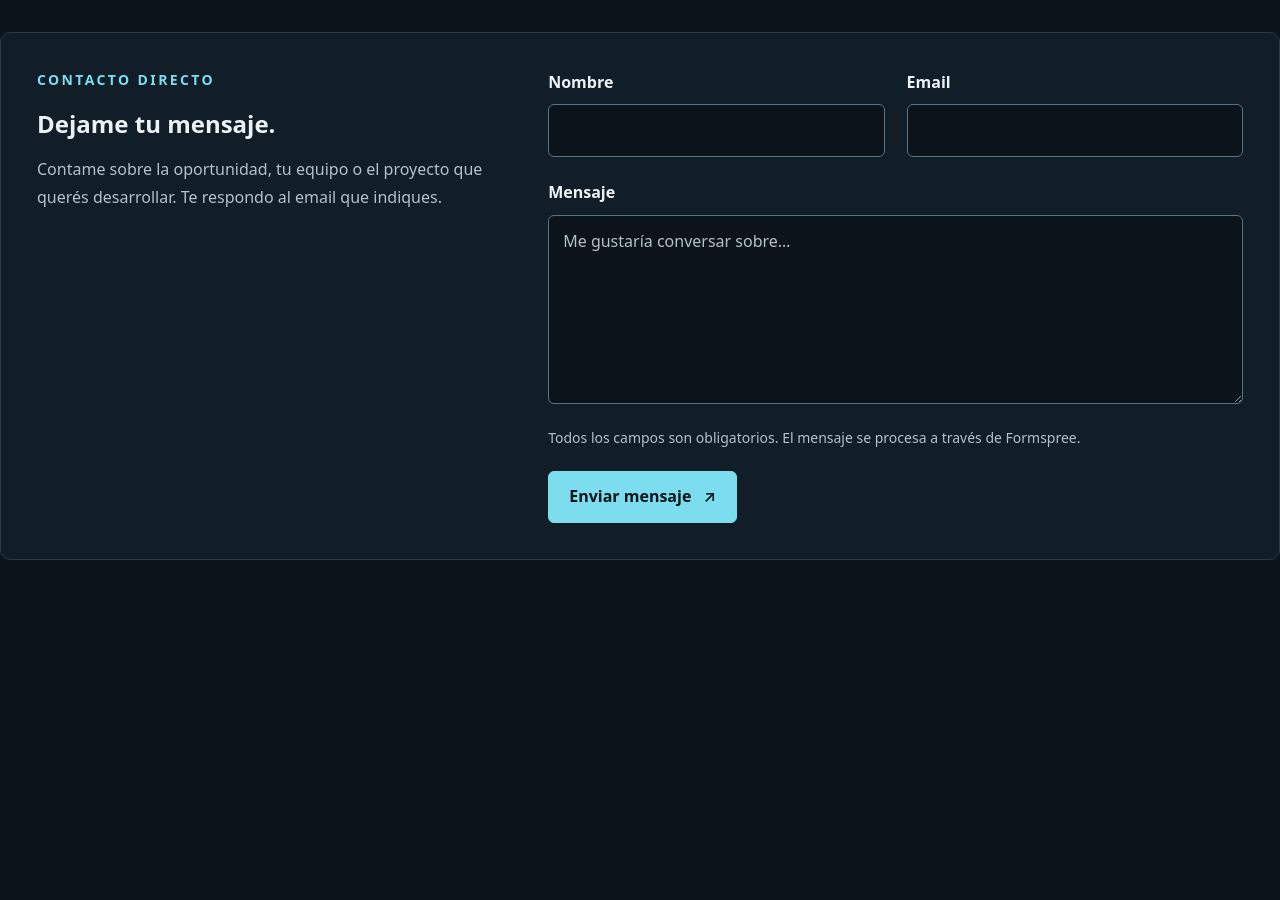
ContactFormComponent › intercepts submission, waits for confirmation and prevents duplicate requests
Type "Visitante" into the field labelled "Nombre". click: (716, 131)
box: [548,104,885,157]
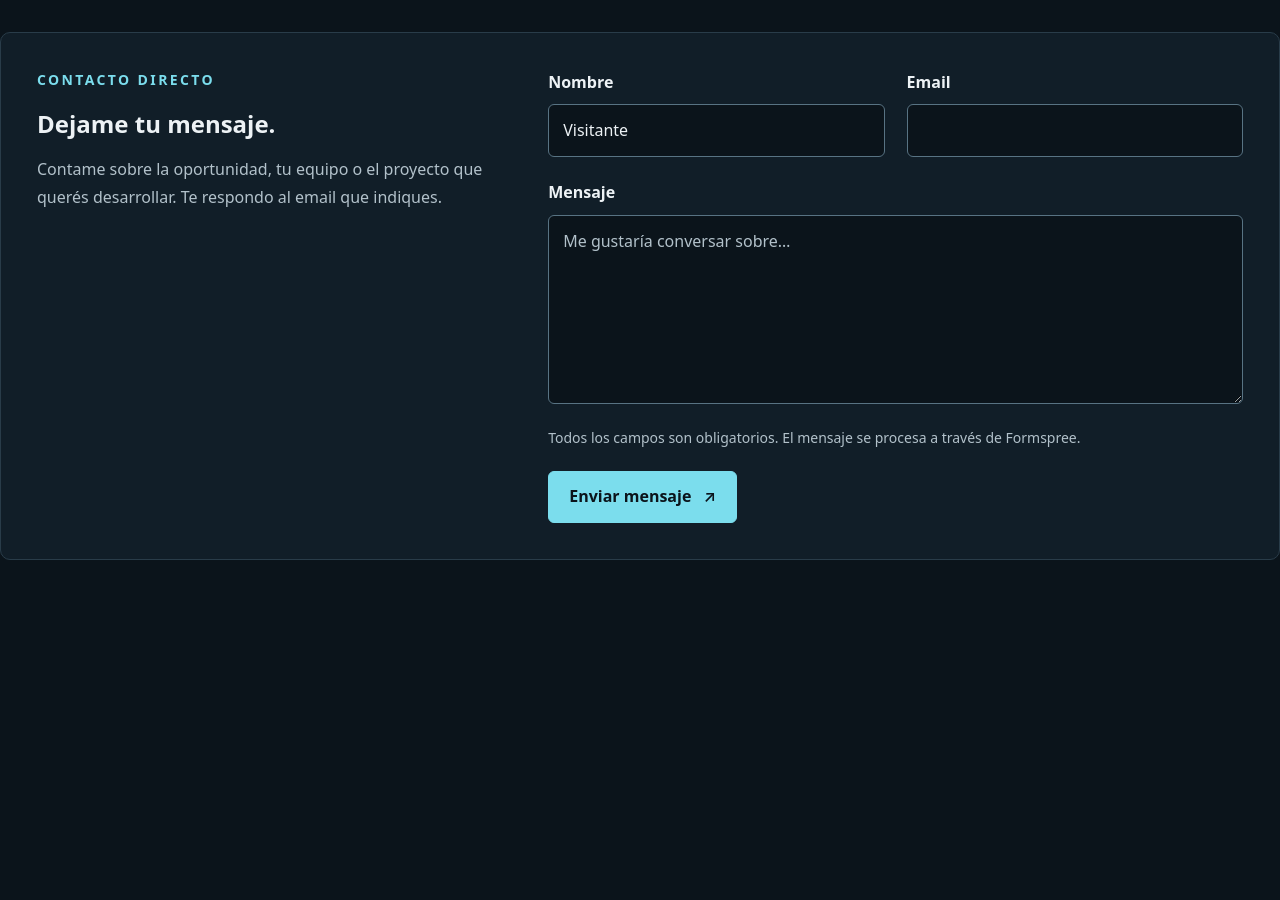
Type "visitante@example.com" into the field labelled "Email". click: (1075, 131)
box: [907,104,1243,157]
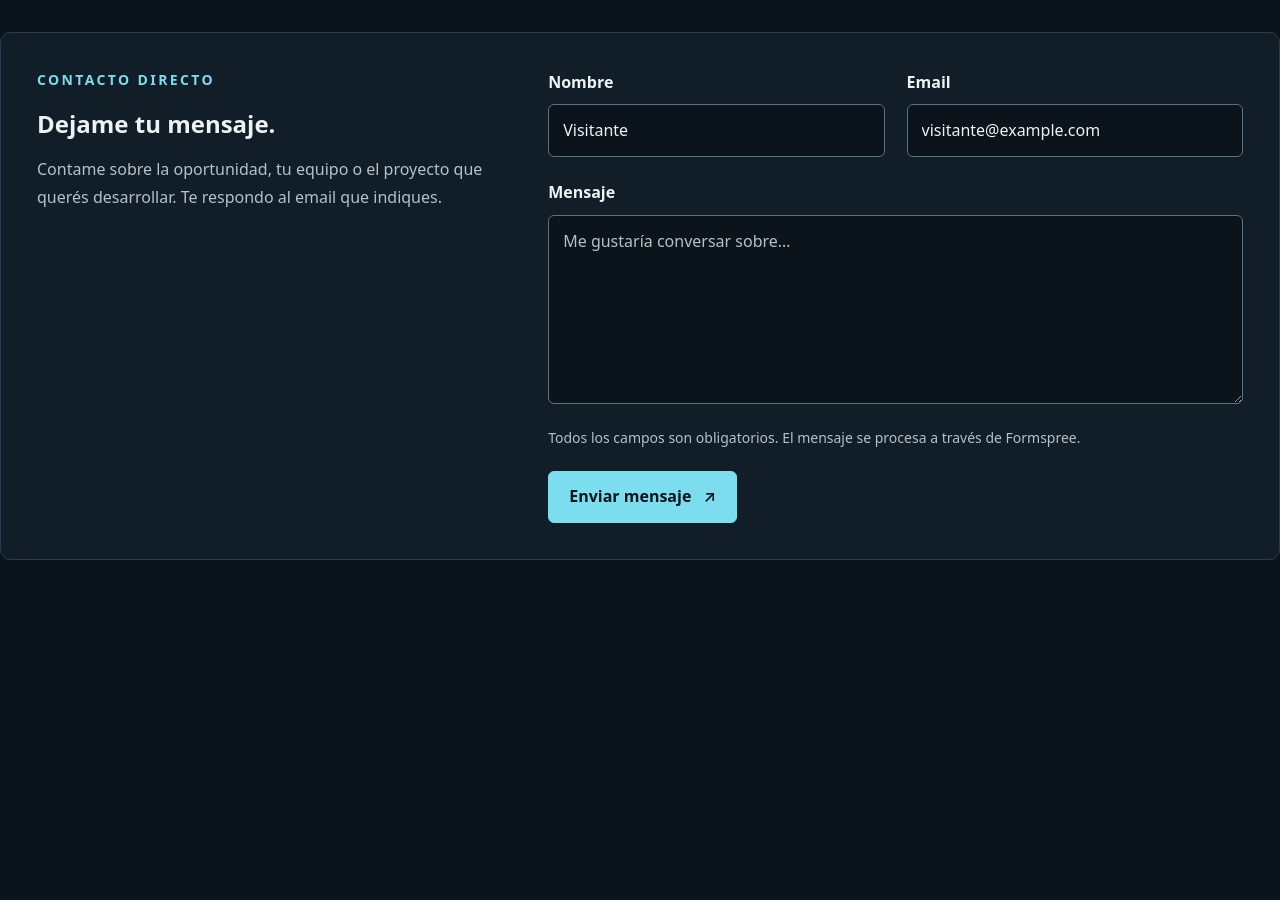
Type "Quiero conversar sobre un proyecto." into the text box labelled "Mensaje". click: (896, 309)
box: [548,215,1243,404]
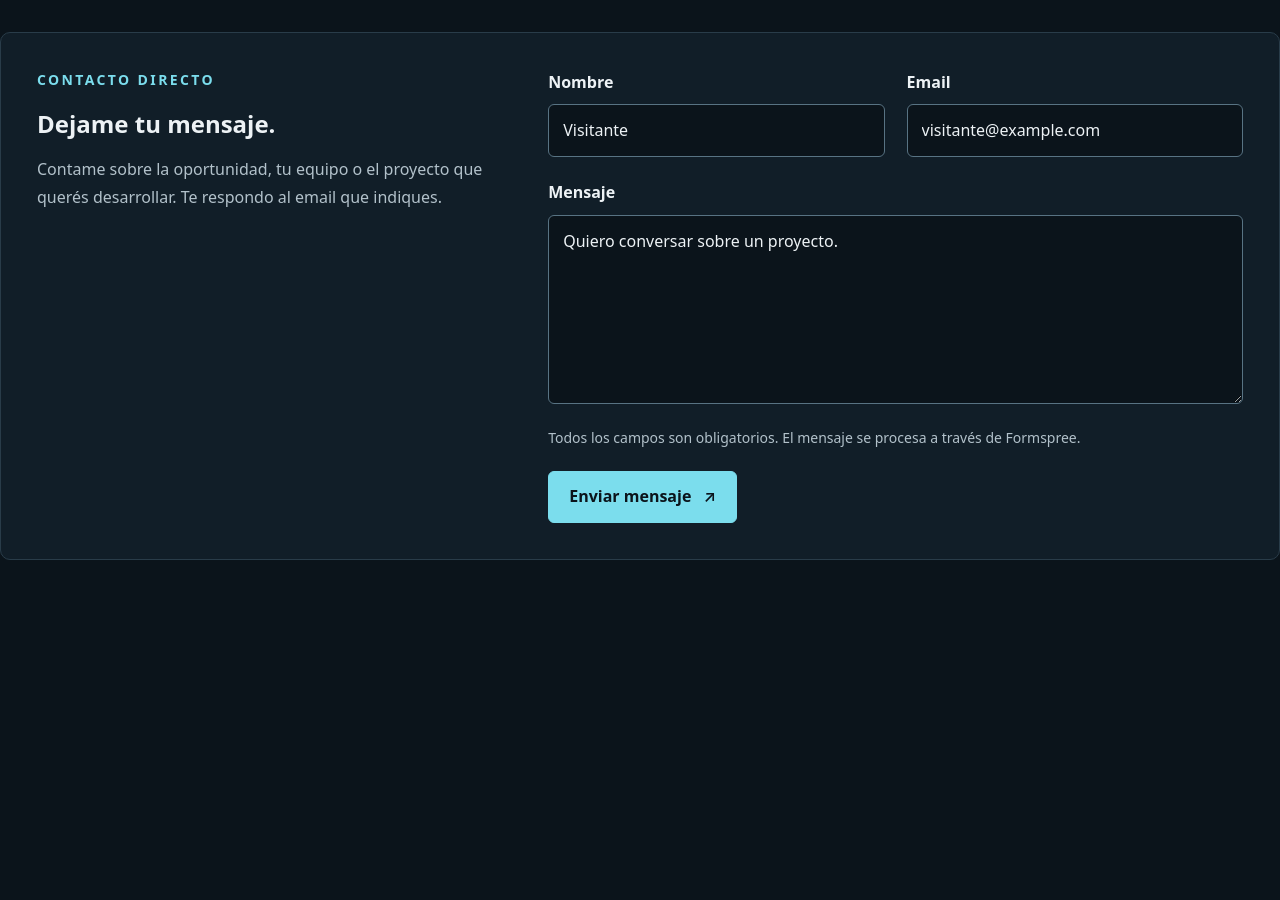
Submit the form, box [548,69,1243,523]
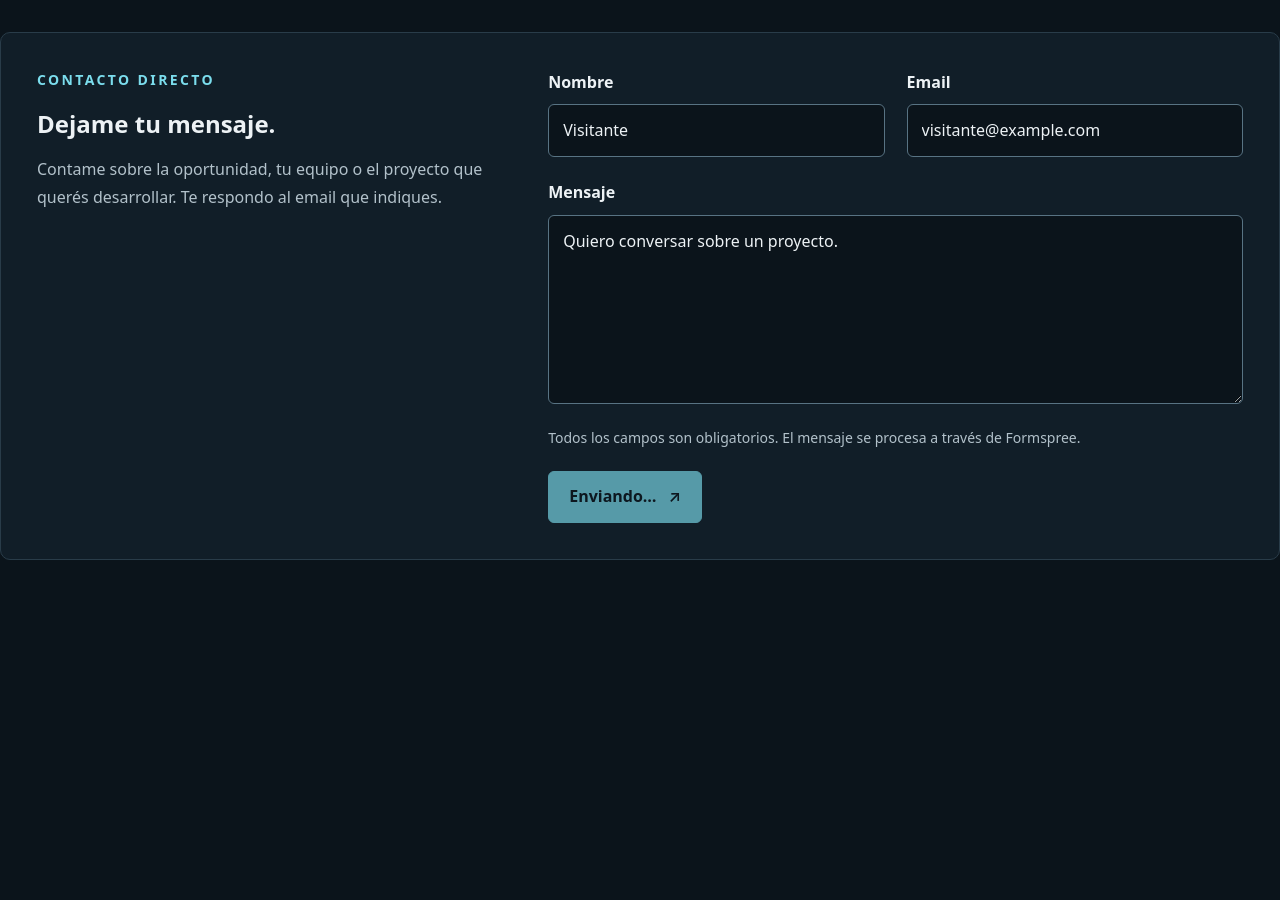
Expected: the text "éxito" is not shown
Now the button "Enviando… ↗" is disabled, box [548,472,702,523]
Submit the form, box [548,69,1243,523]
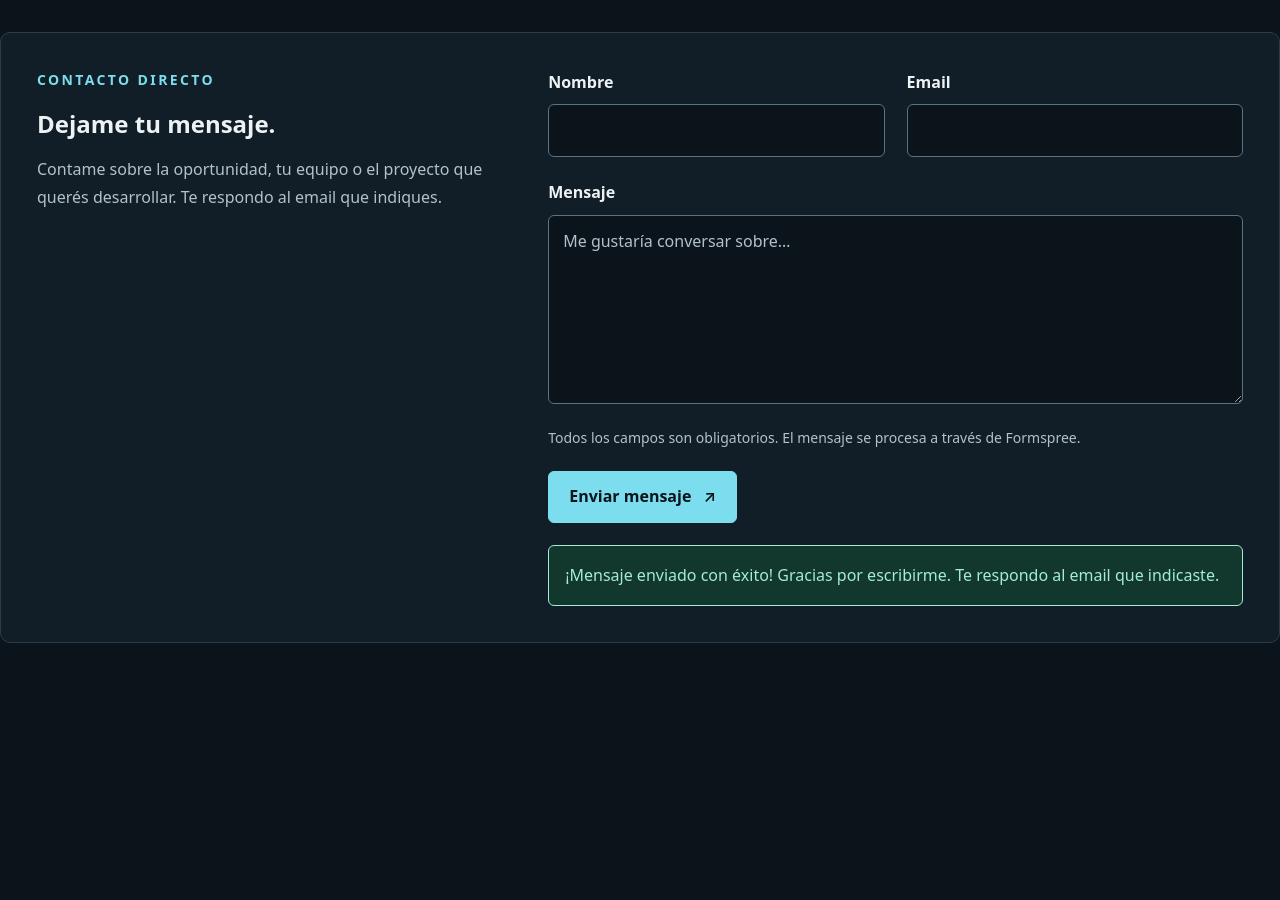
Now the message shows "¡Mensaje enviado con éxito!", box [565,564,1219,586]
Now the button "Enviar mensaje ↗" is enabled, box [548,472,737,523]
